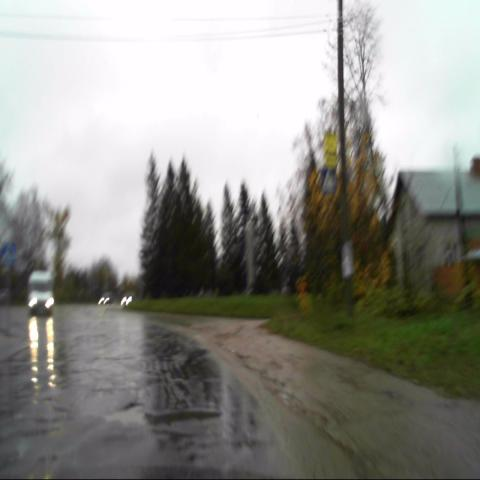5_19_1: (321, 167, 336, 193)
